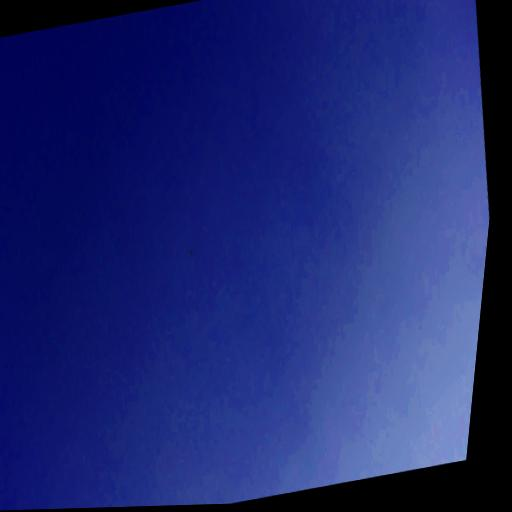drones: (186, 247, 196, 259)
